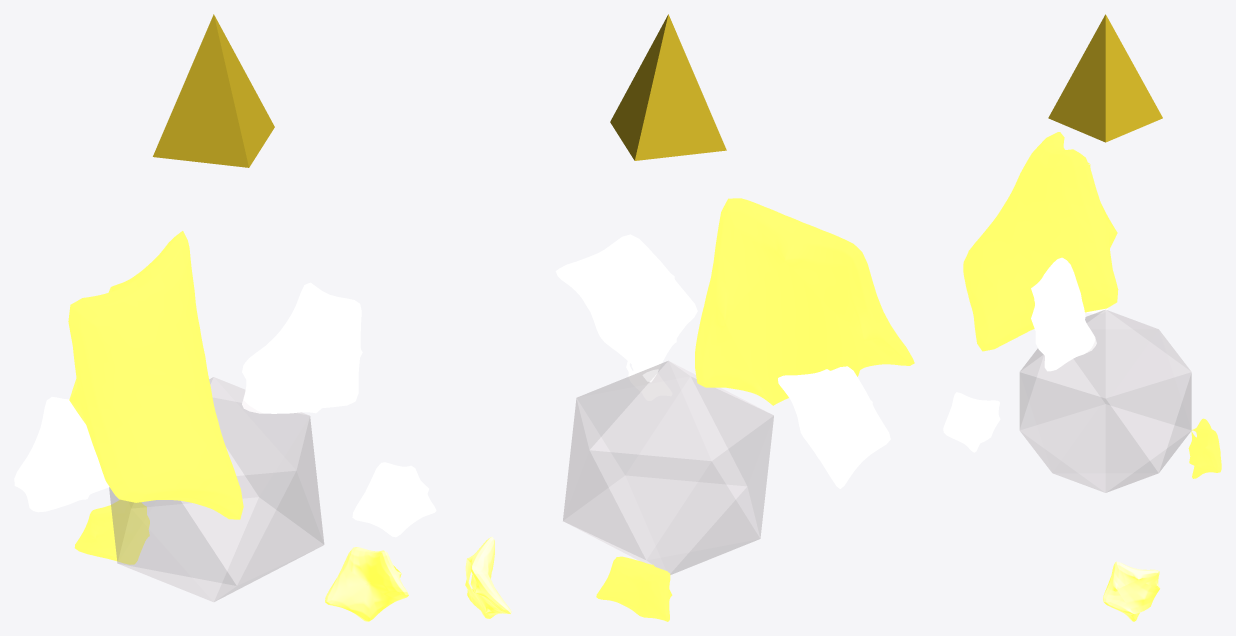
The model's file is delighted.glb.
The picture shows the model from 3 angles, left to right: view 1: azimuth 30°, elevation 25°; view 2: azimuth 150°, elevation 25°; view 3: azimuth 270°, elevation 25°; orthographic projection. The views are drawn at different scales.
Parts seen in each view (by area): view 1: Circle.003, Icosphere, Circle.001, Cone, Circle.005, Circle.002, Circle.004, Circle; view 2: Icosphere, Circle.003, Circle.001, Cone, Circle.005, Circle, Circle.002, Circle.004; view 3: Icosphere, Circle.003, Cone, Circle.001, Circle.004, Circle.002, Circle.
Boxes of the visible parts, bbox=[...] form: Circle.003: bbox=[68, 231, 243, 519]; Icosphere: bbox=[109, 377, 323, 601]; Circle.001: bbox=[242, 282, 362, 413]; Cone: bbox=[153, 14, 274, 167]; Circle.005: bbox=[14, 397, 109, 512]; Circle.002: bbox=[325, 547, 408, 621]; Circle.004: bbox=[352, 462, 436, 537]; Circle: bbox=[74, 499, 149, 564]; Icosphere: bbox=[563, 361, 773, 574]; Circle.003: bbox=[695, 198, 914, 405]; Circle.001: bbox=[555, 234, 697, 382]; Cone: bbox=[610, 14, 726, 160]; Circle.005: bbox=[778, 366, 890, 488]; Circle: bbox=[596, 556, 672, 621]; Circle.002: bbox=[465, 536, 511, 618]; Circle.004: bbox=[626, 361, 672, 400]; Icosphere: bbox=[1020, 310, 1191, 492]; Circle.003: bbox=[963, 132, 1118, 351]; Cone: bbox=[1048, 14, 1162, 142]; Circle.001: bbox=[1031, 257, 1096, 371]; Circle.004: bbox=[943, 392, 1000, 452]; Circle.002: bbox=[1103, 561, 1159, 621]; Circle: bbox=[1188, 418, 1221, 478].
Size of the model in its own units: 7.86 by 12.09 by 5.65.
